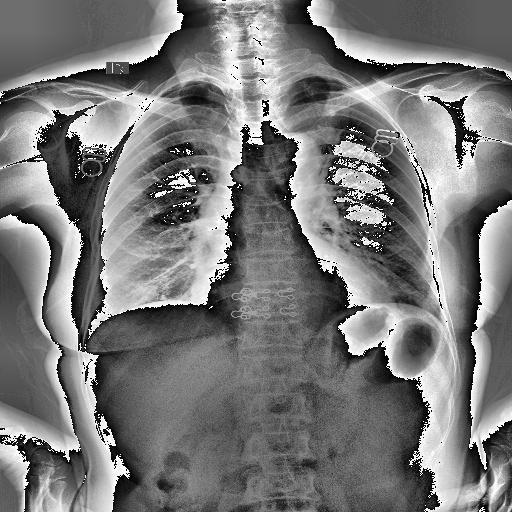0- Aortic enlargement: (263, 132, 323, 182), (269, 130, 324, 178), (270, 134, 320, 185)
11- Pleural thickening: (162, 81, 216, 89)
2- Calcification: (326, 108, 336, 116), (328, 108, 336, 116)
3- Cardiomegaly: (184, 258, 384, 308), (188, 272, 399, 314), (191, 276, 389, 316)
8- Nodule-Mass: (328, 108, 336, 116)
